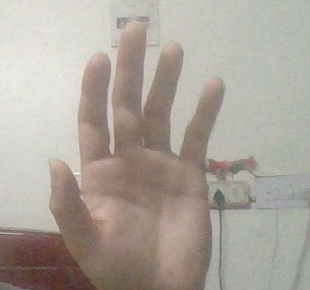move: (50, 18, 226, 290)
